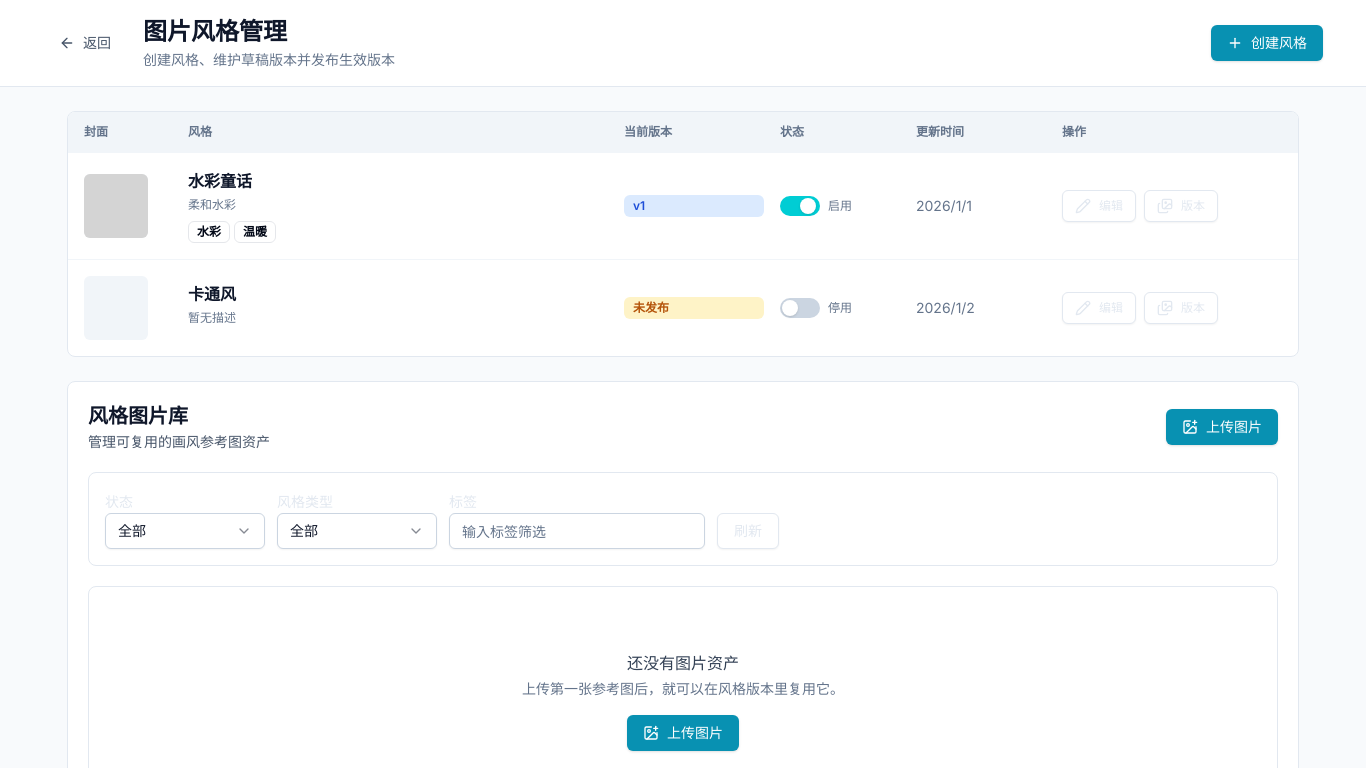
ImageStylesView › opens version manager when clicking version button
Expected: the heading "水彩童话" is shown, x1=188 y1=171 x2=252 y2=191
Click the button "版本" in the row of "2026/1/1". click: click(1181, 206)
box: x1=1144 y1=190 x2=1218 y2=222
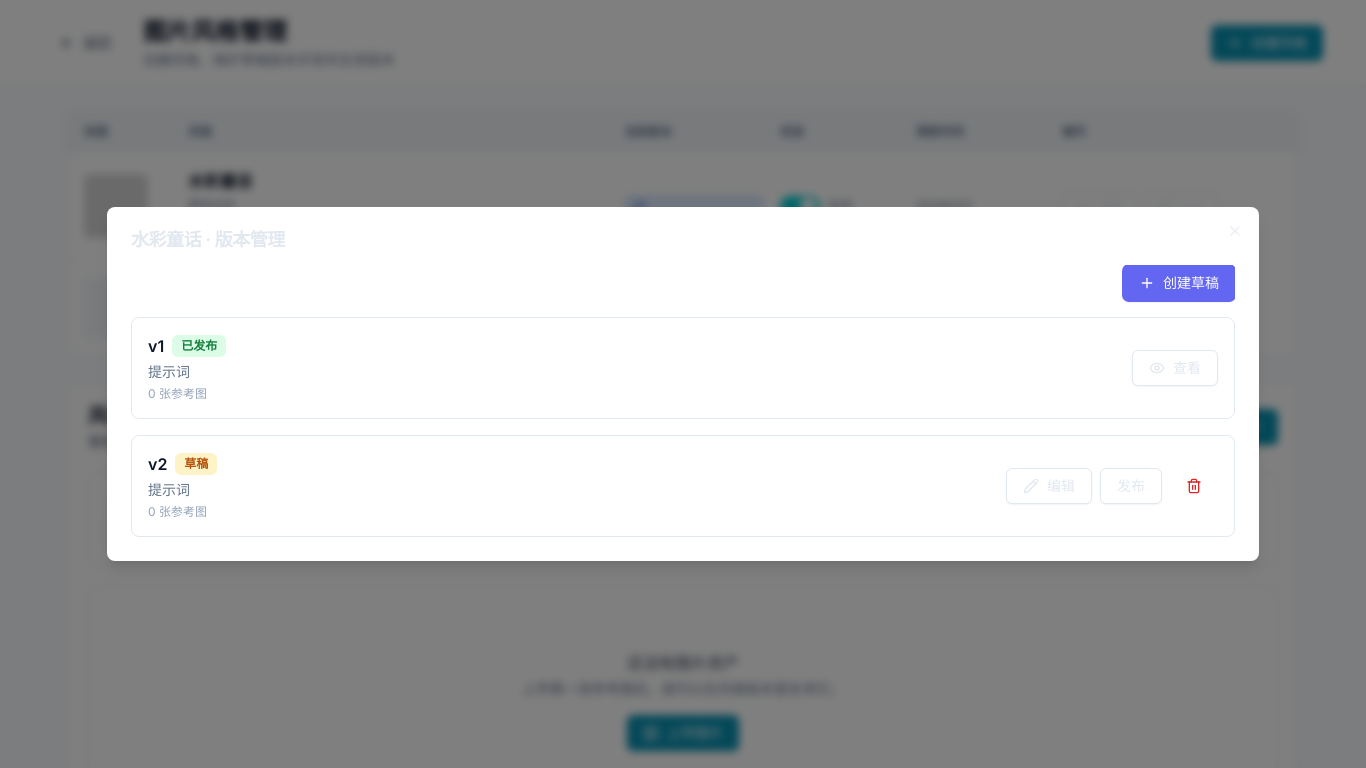
Expected: the heading "水彩童话 · 版本管理" is shown, x1=131 y1=229 x2=285 y2=250
